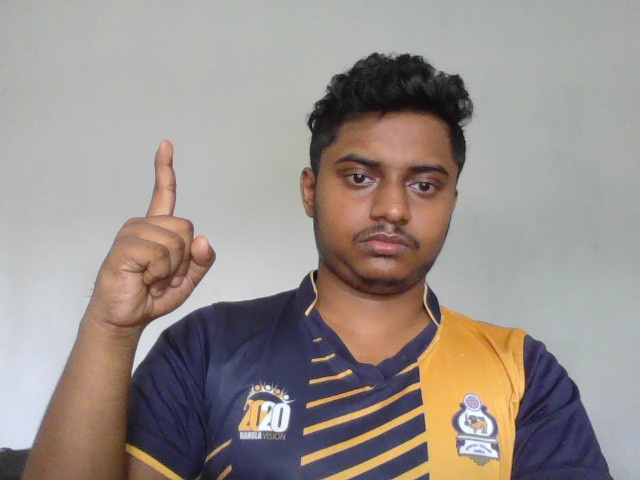Me: (85, 139, 220, 327)
